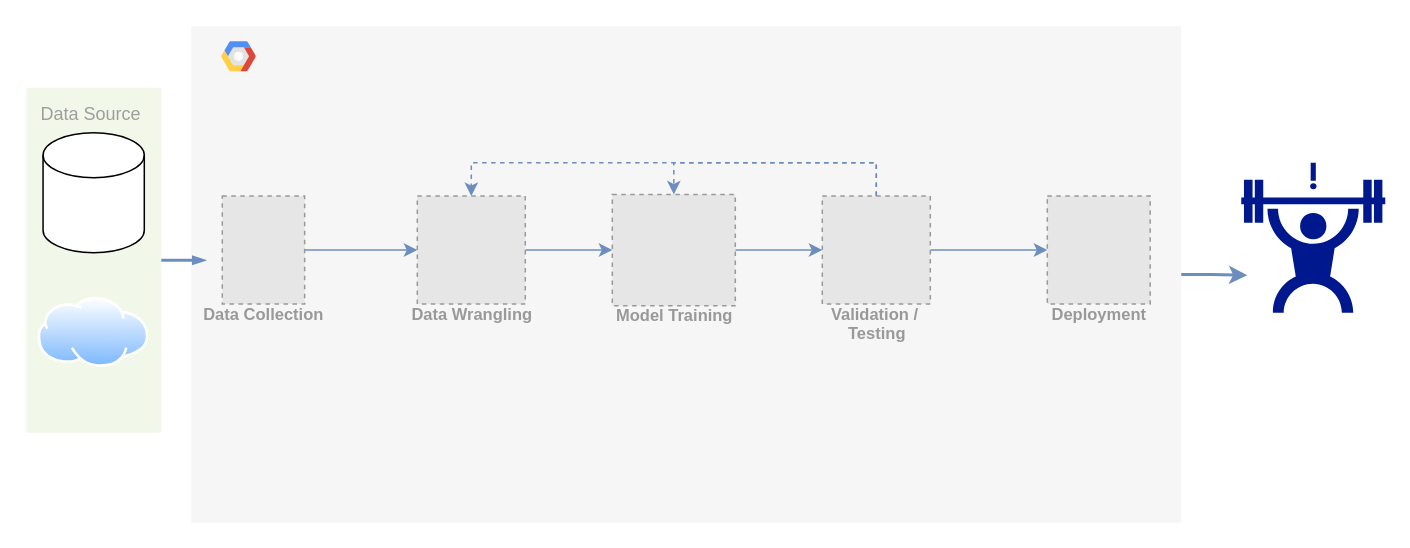
The diagram is 1410 pixels wide and 548 high, and some of its shapes have lost their labels. Grey dashed boxes stand in for pictures. Here are the shapes that lost their labels. From the top down, the centre of each, then its label:
At (93,192): "Org Database".
At (1312,237): "Stakeholders".
At (93,332): "Open Data".
